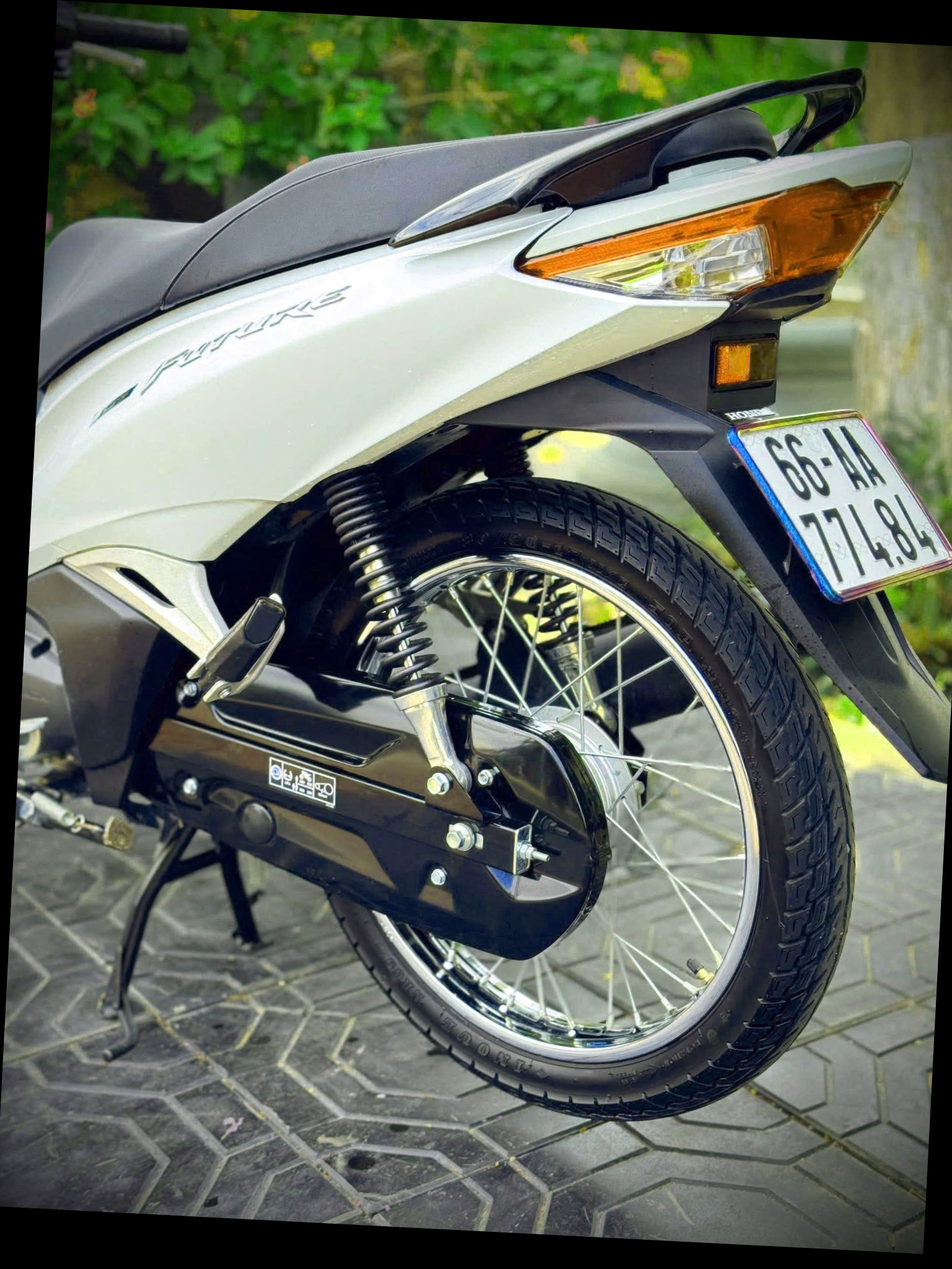Bien-so: (723, 381, 947, 584)
